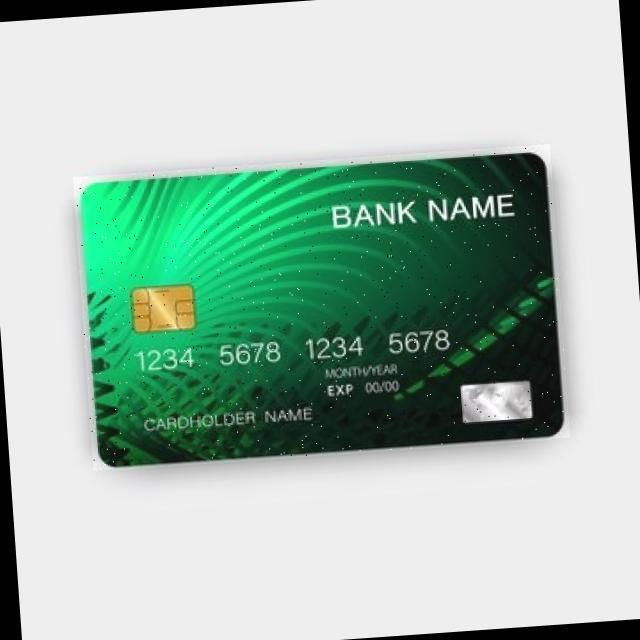payment_card: (73, 145, 564, 469)
